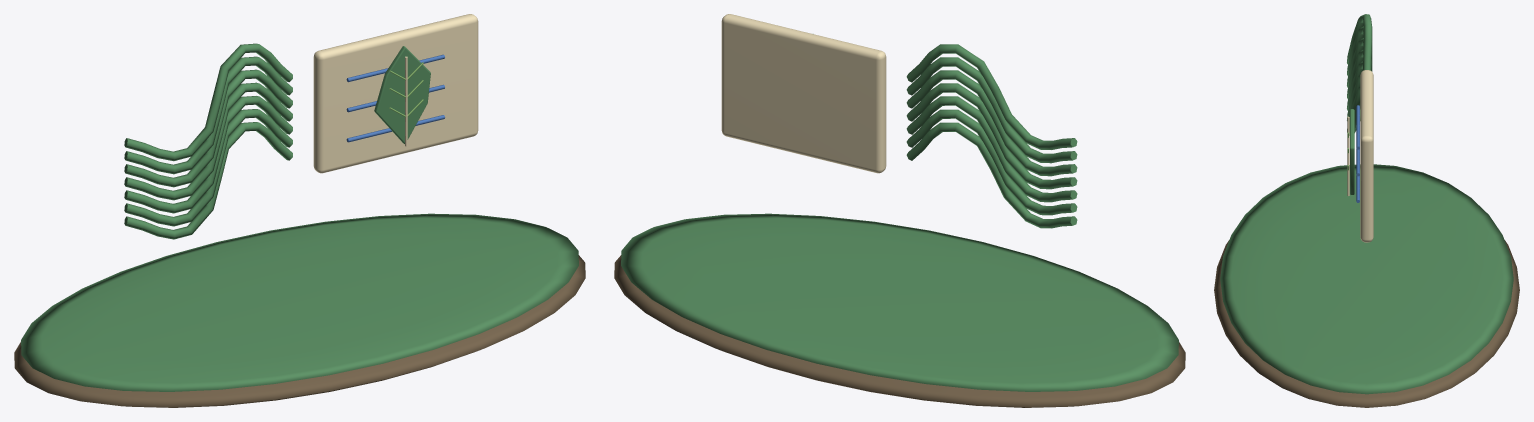
File: leaf-green-silk.glb
3 renders of one model, left to right at view 1: azimuth 30°, elevation 25°; view 2: azimuth 150°, elevation 25°; view 3: azimuth 270°, elevation 25°, orthographic. The views are drawn at different scales.
Parts seen in each view (by area): view 1: leaf-green-silk_surface_01, leaf-green-silk_surface_02, leaf-green-silk_surface_00, leaf-green-silk_surface_03; view 2: leaf-green-silk_surface_01, leaf-green-silk_surface_02, leaf-green-silk_surface_00; view 3: leaf-green-silk_surface_01, leaf-green-silk_surface_00, leaf-green-silk_surface_02, leaf-green-silk_surface_03.
Boxes of the visible parts, x1=… form: leaf-green-silk_surface_01: x1=21, y1=43, x2=578, y2=391; leaf-green-silk_surface_02: x1=313, y1=14, x2=478, y2=173; leaf-green-silk_surface_00: x1=14, y1=255, x2=585, y2=407; leaf-green-silk_surface_03: x1=346, y1=54, x2=445, y2=142; leaf-green-silk_surface_01: x1=621, y1=44, x2=1178, y2=391; leaf-green-silk_surface_02: x1=721, y1=14, x2=886, y2=173; leaf-green-silk_surface_00: x1=614, y1=255, x2=1185, y2=407; leaf-green-silk_surface_01: x1=1220, y1=14, x2=1513, y2=394; leaf-green-silk_surface_00: x1=1214, y1=240, x2=1519, y2=407; leaf-green-silk_surface_02: x1=1347, y1=70, x2=1373, y2=242; leaf-green-silk_surface_03: x1=1356, y1=105, x2=1359, y2=202.
Bounding box in the file's own units: 4.56 × 2.4 × 2.5.
